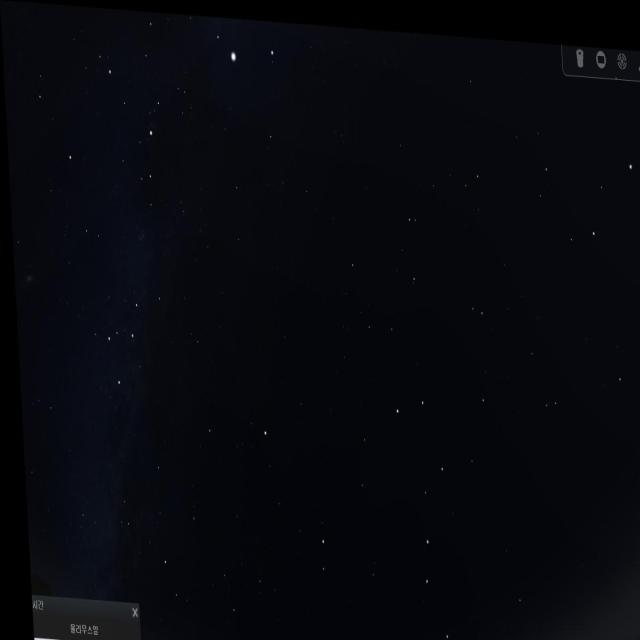ursa_major: (374, 358, 463, 640)
